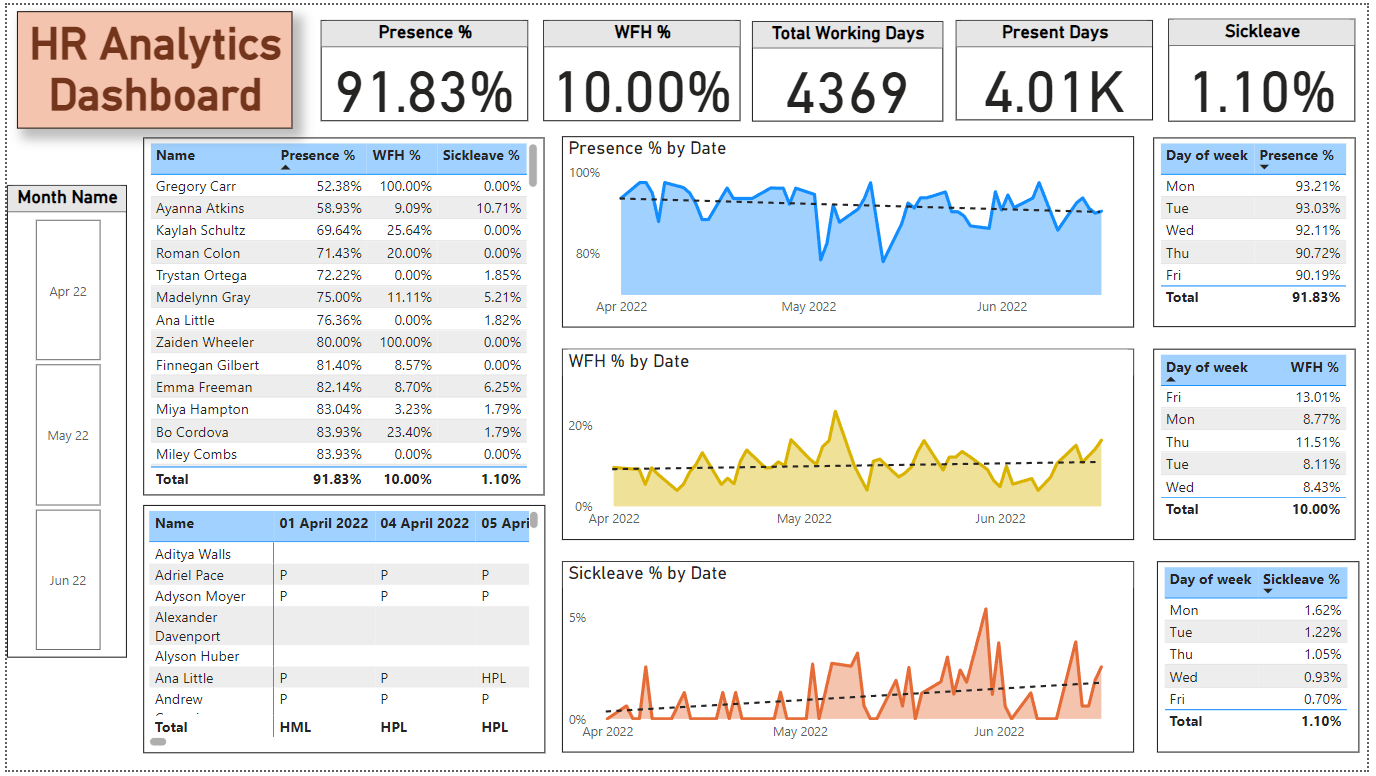

The dashboard page shown, as its layout file describes it:
{"tool":"powerbi","page":{"name":"Page 1","canvas":[1280,720],"ordinal":0},"visuals":[{"type":"card","title":"Total Working Days","fields":{"Values":["Measures (2).Total Working days"]},"box":[701.2,15.5,179.8,94],"z":0},{"type":"card","title":"Present Days","fields":{"Values":["Measures (2).Present Days"]},"box":[892.9,14.3,185.7,94],"z":1000},{"type":"card","title":"Presence %","fields":{"Values":["Measures Table.Presence %"]},"box":[295.2,14.3,195.2,95.2],"z":2000},{"type":"slicer","title":"Month Name","fields":{"Values":["Final Data.Month Name"]},"box":[0,169.2,112.8,444.9],"z":3000},{"type":"card","title":"WFH %","fields":{"Values":["Measures Table.WFH %"]},"box":[504.8,14.3,185.7,95.2],"z":4000},{"type":"card","title":"Sickleave","fields":{"Values":["Measures Table.Sickleave %"]},"box":[1092.9,13.1,176.2,96.4],"z":5000},{"type":"tableEx","fields":{"Values":["Final Data.Name","Measures Table.Presence %","Measures Table.WFH %","Measures Table.Sickleave %"]},"box":[128.6,125,377.4,336.9],"z":6000},{"type":"pivotTable","fields":{"Values":["Min(Final Data.Value)"],"Rows":["Final Data.Name"],"Columns":["Final Data.Date"]},"box":[128.6,470.2,378.6,233.3],"z":7000},{"type":"areaChart","fields":{"Y":["Measures Table.Presence %"],"Category":["Final Data.Date"]},"box":[522.6,123.8,538.1,179.8],"z":8000},{"type":"areaChart","fields":{"Y":["Measures Table.WFH %"],"Category":["Final Data.Date"]},"box":[522.6,323.8,538.1,179.8],"z":9000},{"type":"areaChart","fields":{"Category":["Final Data.Date"],"Y":["Measures Table.Sickleave %"]},"box":[522.6,523.8,538.1,179.8],"z":10000},{"type":"tableEx","fields":{"Values":["Final Data.Day of week","Measures Table.Presence %"]},"box":[1078.5,124.7,190.8,178.5],"z":11000},{"type":"tableEx","fields":{"Values":["Final Data.Day of week","Measures Table.WFH %"]},"box":[1078.5,324.1,190.8,179.8],"z":12000},{"type":"tableEx","fields":{"Values":["Final Data.Day of week","Measures Table.Sickleave %"]},"box":[1082.2,523.4,190.8,179.8],"z":13000},{"type":"textbox","title":"HR Analytics Dashboard","box":[9.5,6,259.5,110.7],"z":14000}]}

Visuals, with their boxes in screenshot pixels (x1, y1, x2, y2), scaled from the page's 1280x720 canvas onto the 1376x776 screenshot:
"Total Working Days" card: region(754, 17, 947, 118)
"Present Days" card: region(960, 15, 1159, 117)
"Presence %" card: region(317, 15, 527, 118)
"Month Name" slicer: region(0, 182, 121, 662)
"WFH %" card: region(543, 15, 742, 118)
"Sickleave" card: region(1175, 14, 1364, 118)
tableEx - Final Data.Name x Measures Table.Presence %: region(138, 135, 544, 498)
pivotTable - Min(Final Data.Value) x Final Data.Name: region(138, 507, 545, 758)
areaChart - Measures Table.Presence % x Final Data.Date: region(562, 133, 1140, 327)
areaChart - Measures Table.WFH % x Final Data.Date: region(562, 349, 1140, 543)
areaChart - Final Data.Date x Measures Table.Sickleave %: region(562, 565, 1140, 758)
tableEx - Final Data.Day of week x Measures Table.Presence %: region(1159, 134, 1364, 327)
tableEx - Final Data.Day of week x Measures Table.WFH %: region(1159, 349, 1364, 543)
tableEx - Final Data.Day of week x Measures Table.Sickleave %: region(1163, 564, 1368, 758)
"HR Analytics Dashboard" textbox: region(10, 6, 289, 126)
